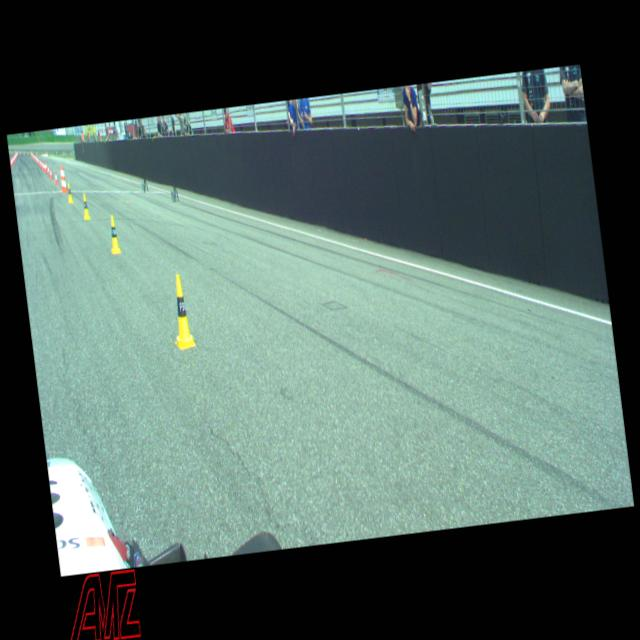large_orange_cone: (60, 166, 68, 192), (59, 166, 64, 190)
orange_cone: (53, 170, 58, 184), (46, 164, 50, 175), (48, 168, 52, 178)
yellow_cone: (167, 274, 196, 349), (106, 214, 121, 253), (80, 193, 90, 219), (65, 182, 73, 203)
